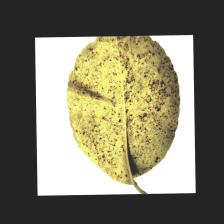canker: (93, 65, 162, 143)
